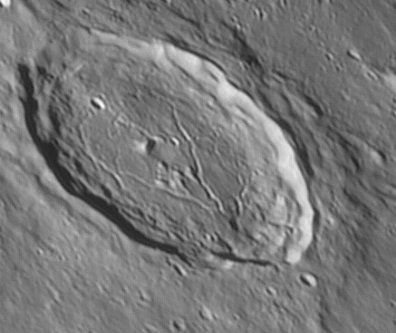crater: (14, 25, 380, 319)
